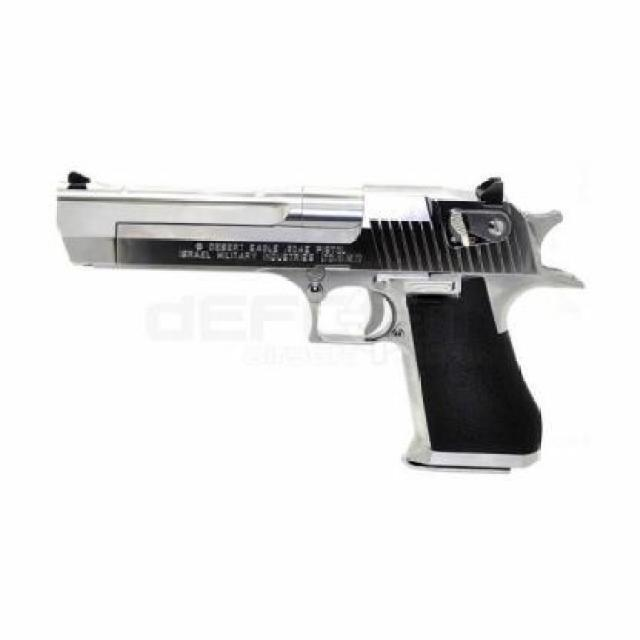gun: (43, 161, 603, 481)
